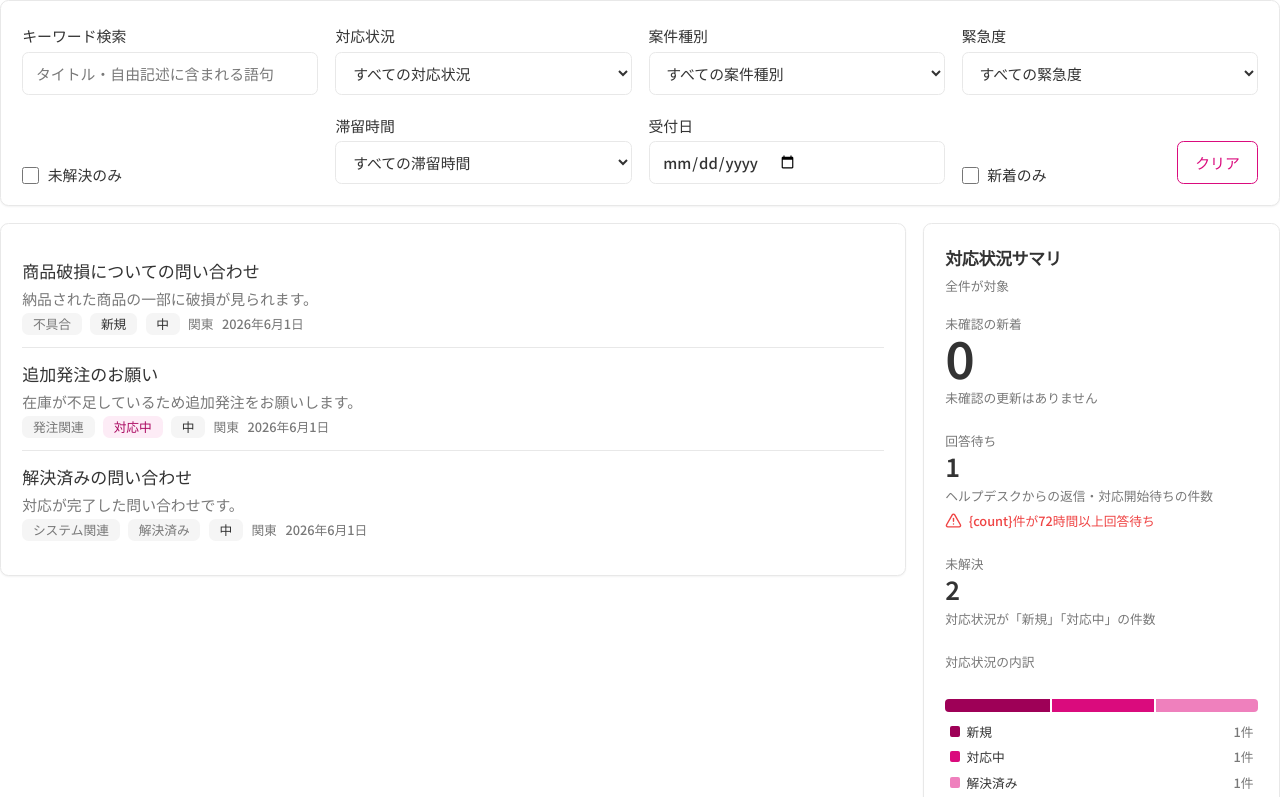
InquiryListClient › クリア操作で全件表示に戻る
Type "破損" into the field labelled "キーワード検索" at (170, 73), box [22,52,318,94]
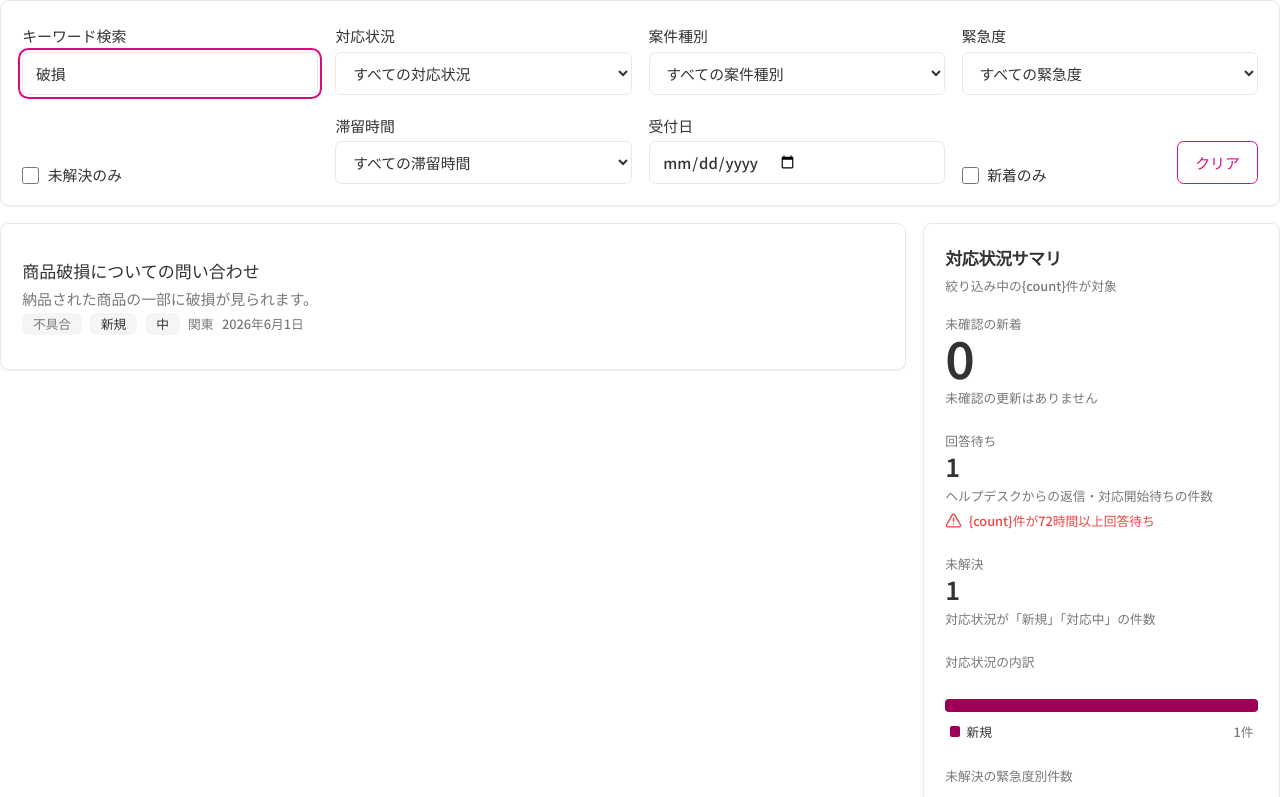
Result: the link "追加発注のお願い" is gone
Click the button "クリア" at (1218, 163), box [1177,141,1258,184]
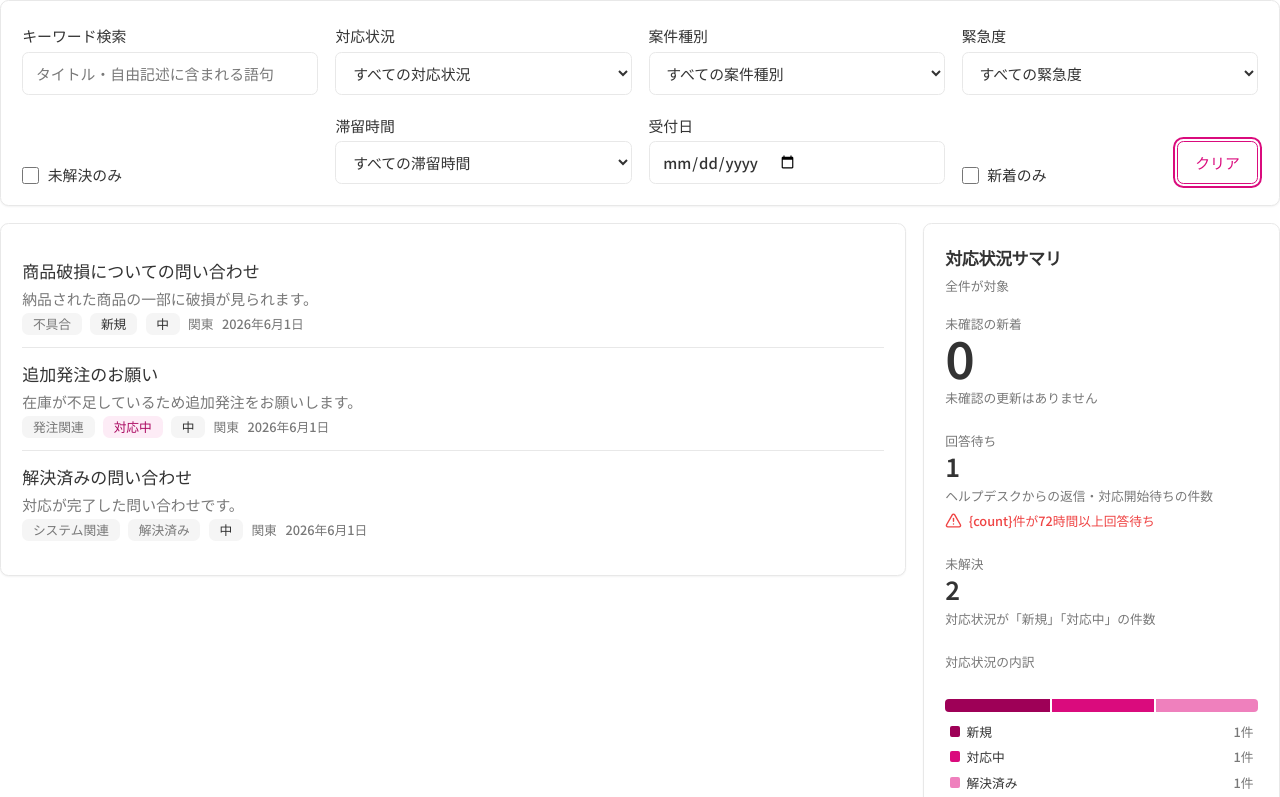
Expected: the link "商品破損についての問い合わせ" is shown, [22,258,260,284]
Result: the link "追加発注のお願い" is shown at [22,361,158,386]
